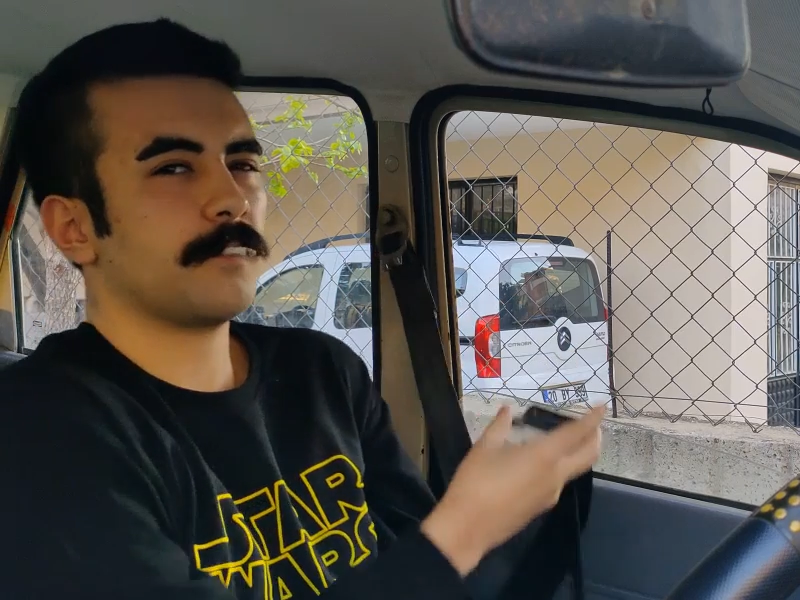sigara: (218, 239, 262, 260)
